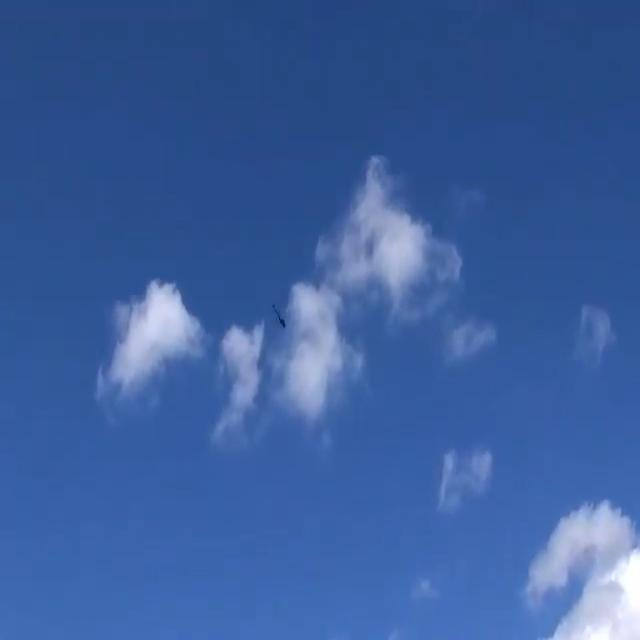Helicopter: (260, 295, 298, 340)
